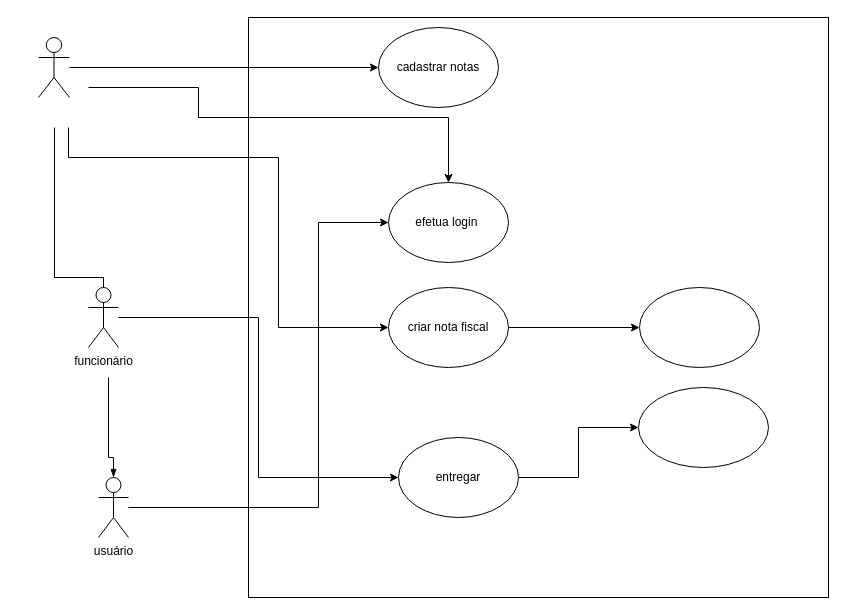
The diagram is 846 pixels wide and 615 high, and some of its shapes have lost their labels. The centre of each missing label's shape, as x and y in pixels:
administrador: the point at 54,67
altera status: the point at 703,427
gerar NFe: the point at 699,327
